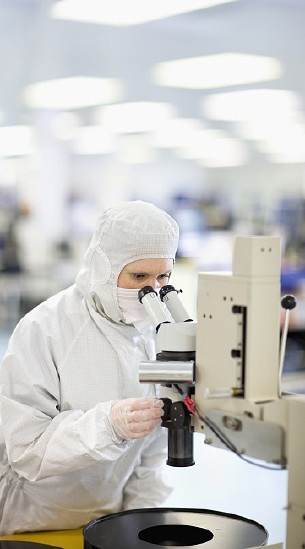Mask: (107, 258, 179, 330)
